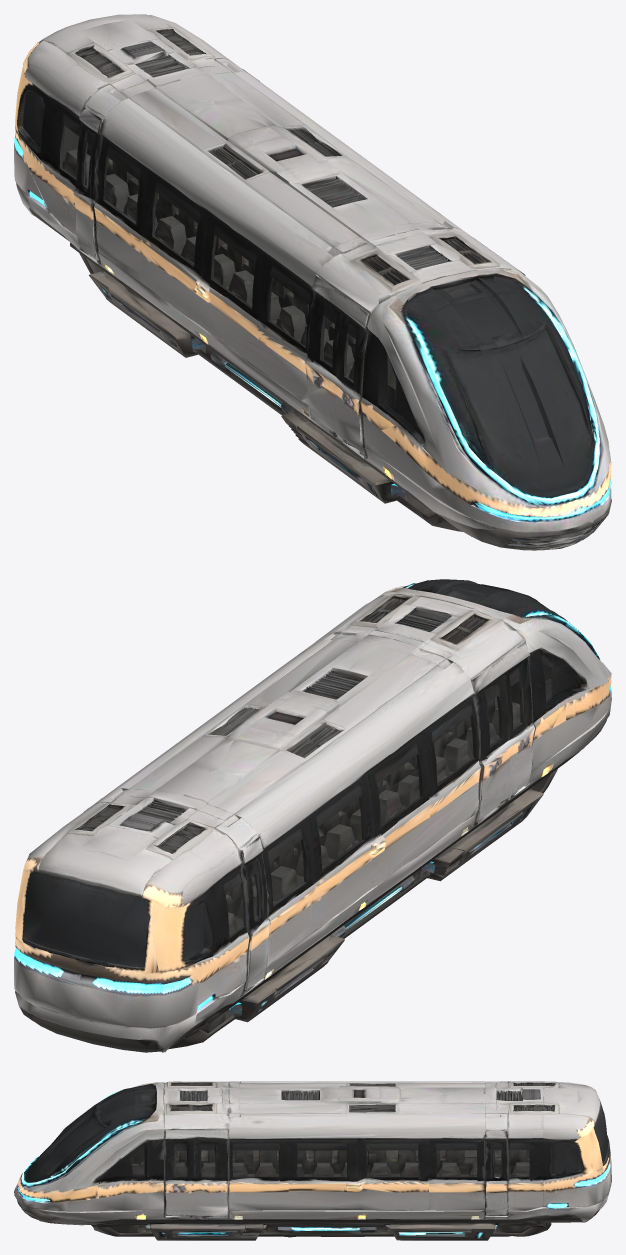
File: maglev_car.glb
3 views of the same model, one above another, from view 1: azimuth 30°, elevation 25°; view 2: azimuth 150°, elevation 25°; view 3: azimuth 270°, elevation 25° (orthographic). The views are drawn at different scales.
Parts seen in each view (by area): view 1: maglev_car; view 2: maglev_car; view 3: maglev_car.
Part boxes in pixels (x1,y1,x2,y2): maglev_car: (14,14,611,550); maglev_car: (14,579,611,1052); maglev_car: (14,1081,611,1240).
Size of the model in its own units: 5.28 by 6.03 by 25.
Materials: 1 (1 with a texture image).
